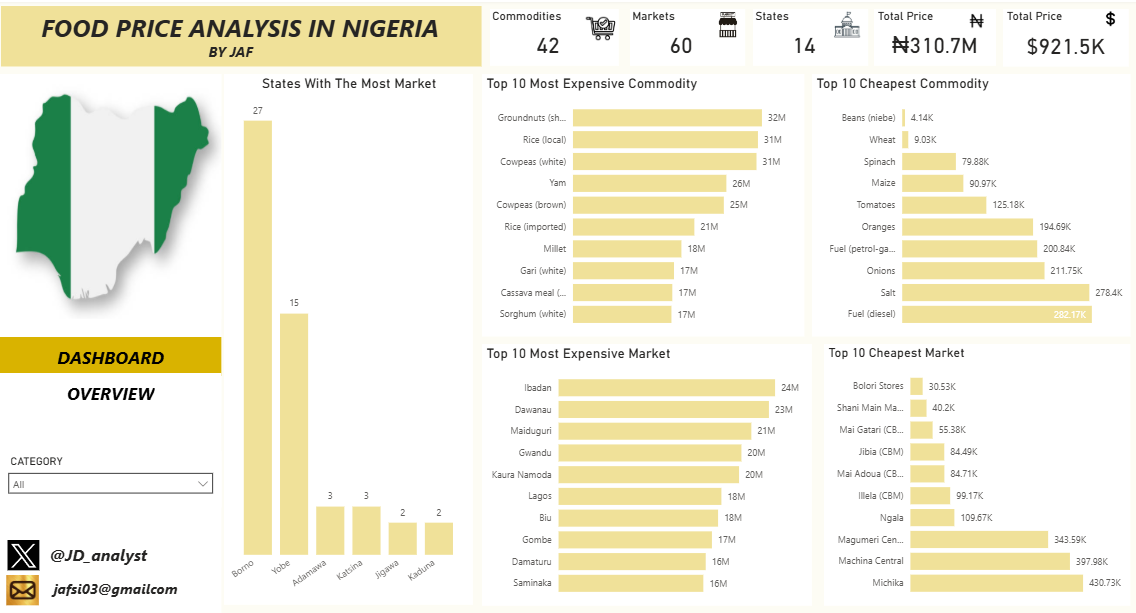

Layout of this report page (visuals, bound fields, positions):
{"tool":"powerbi","page":{"name":"Dashboard","canvas":[1500,810],"ordinal":0},"visuals":[{"type":"shape","box":[0,99.4,292.2,710.8],"z":0},{"type":"card","title":"Commodities","fields":{"Values":["wfp_food_prices_nga (1).Commodity_count"]},"box":[646.1,13.2,170.2,75.2],"z":1000},{"type":"card","title":"Markets","fields":{"Values":["wfp_food_prices_nga (1).Market_count"]},"box":[831.1,13.2,151.7,75.2],"z":2000},{"type":"card","title":"States","fields":{"Values":["wfp_food_prices_nga (1).STATE_NO"]},"box":[993.4,13.2,151.7,75.2],"z":3000},{"type":"card","title":"Total Price","fields":{"Values":["Sum(wfp_food_prices_nga (1).NGN_PRICE)"]},"box":[1153,13.2,160.9,75.2],"z":4000},{"type":"card","title":"Total Price","fields":{"Values":["Sum(wfp_food_prices_nga (1).USD_PRICE)"]},"box":[1323.8,13.1,165.8,75.8],"z":5000},{"type":"clusteredColumnChart","title":"States With The Most Market","fields":{"Category":["wfp_food_prices_nga (1).STATE"],"Y":["wfp_food_prices_nga (1).Market_count"]},"box":[295.2,99.4,328.3,700.3],"z":6000},{"type":"barChart","title":"Top 10 Most Expensive Commodity","fields":{"Category":["wfp_food_prices_nga (1).COMMODITY"],"Y":["Sum(wfp_food_prices_nga (1).NGN_PRICE)"]},"box":[635.5,99.4,424.7,346.4],"z":7000},{"type":"barChart","title":"Top 10 Cheapest Commodity","fields":{"Category":["wfp_food_prices_nga (1).COMMODITY"],"Y":["Sum(wfp_food_prices_nga (1).NGN_PRICE)"]},"box":[1070.8,99.4,420.2,346.4],"z":8000},{"type":"barChart","title":"Top 10 Most Expensive Market","fields":{"Category":["wfp_food_prices_nga (1).MARKET"],"Y":["Sum(wfp_food_prices_nga (1).NGN_PRICE)"]},"box":[635.5,455.3,435.2,344.9],"z":9000},{"type":"barChart","title":"Top 10 Cheapest Market","fields":{"Category":["wfp_food_prices_nga (1).MARKET"],"Y":["Sum(wfp_food_prices_nga (1).NGN_PRICE)"]},"box":[1087.3,455.3,403.6,344.9],"z":10000},{"type":"slicer","fields":{"Values":["wfp_food_prices_nga (1).CATEGORY"]},"box":[0,596.3,291.5,73.9],"z":11000},{"type":"actionButton","box":[0,445.3,292.2,51.2],"z":12000},{"type":"actionButton","box":[0,493.5,292.2,51.2],"z":13000},{"type":"shape","box":[1.5,9,634,79.8],"z":14000},{"type":"textbox","box":[1.5,10.5,622,75.3],"z":15000},{"type":"textbox","box":[168.7,51.2,271.1,34.6],"z":16000},{"type":"image","box":[770.4,15.8,43.5,44.9],"z":17000},{"type":"image","box":[939.3,13.2,42.2,40.9],"z":18000},{"type":"image","box":[1089.7,15.8,55.4,38.3],"z":19000},{"type":"image","box":[1265.1,18.5,46.2,19.8],"z":20000},{"type":"image","box":[1441.9,15.8,46.2,19.8],"z":21000},{"type":"image","box":[0,98.9,291.5,323.2],"z":22000},{"type":"image","box":[7.9,713.7,46.2,39.6],"z":23000},{"type":"image","box":[5.3,759.9,48.8,39.6],"z":24000},{"type":"textbox","box":[60.7,713.7,215,39.6],"z":25000},{"type":"textbox","box":[60.7,759.9,200.5,39.6],"z":26000}]}

Visuals, with their boxes in screenshot pixels (x1, y1, x2, y2), scaled from the page's 1500x810 canvas onto the 1136x613 screenshot:
shape: {"x1": 0, "y1": 75, "x2": 221, "y2": 612}
"Commodities" card: {"x1": 489, "y1": 10, "x2": 618, "y2": 67}
"Markets" card: {"x1": 629, "y1": 10, "x2": 744, "y2": 67}
"States" card: {"x1": 752, "y1": 10, "x2": 867, "y2": 67}
"Total Price" card: {"x1": 873, "y1": 10, "x2": 995, "y2": 67}
"Total Price" card: {"x1": 1003, "y1": 10, "x2": 1128, "y2": 67}
"States With The Most Market" clusteredColumnChart: {"x1": 224, "y1": 75, "x2": 472, "y2": 605}
"Top 10 Most Expensive Commodity" barChart: {"x1": 481, "y1": 75, "x2": 803, "y2": 337}
"Top 10 Cheapest Commodity" barChart: {"x1": 811, "y1": 75, "x2": 1129, "y2": 337}
"Top 10 Most Expensive Market" barChart: {"x1": 481, "y1": 345, "x2": 811, "y2": 606}
"Top 10 Cheapest Market" barChart: {"x1": 823, "y1": 345, "x2": 1129, "y2": 606}
slicer - wfp_food_prices_nga (1).CATEGORY: {"x1": 0, "y1": 451, "x2": 221, "y2": 507}
actionButton: {"x1": 0, "y1": 337, "x2": 221, "y2": 376}
actionButton: {"x1": 0, "y1": 373, "x2": 221, "y2": 412}
shape: {"x1": 1, "y1": 7, "x2": 481, "y2": 67}
textbox: {"x1": 1, "y1": 8, "x2": 472, "y2": 65}
textbox: {"x1": 128, "y1": 39, "x2": 333, "y2": 65}
image: {"x1": 583, "y1": 12, "x2": 616, "y2": 46}
image: {"x1": 711, "y1": 10, "x2": 743, "y2": 41}
image: {"x1": 825, "y1": 12, "x2": 867, "y2": 41}
image: {"x1": 958, "y1": 14, "x2": 993, "y2": 29}
image: {"x1": 1092, "y1": 12, "x2": 1127, "y2": 27}
image: {"x1": 0, "y1": 75, "x2": 221, "y2": 319}
image: {"x1": 6, "y1": 540, "x2": 41, "y2": 570}
image: {"x1": 4, "y1": 575, "x2": 41, "y2": 605}
textbox: {"x1": 46, "y1": 540, "x2": 209, "y2": 570}
textbox: {"x1": 46, "y1": 575, "x2": 198, "y2": 605}
